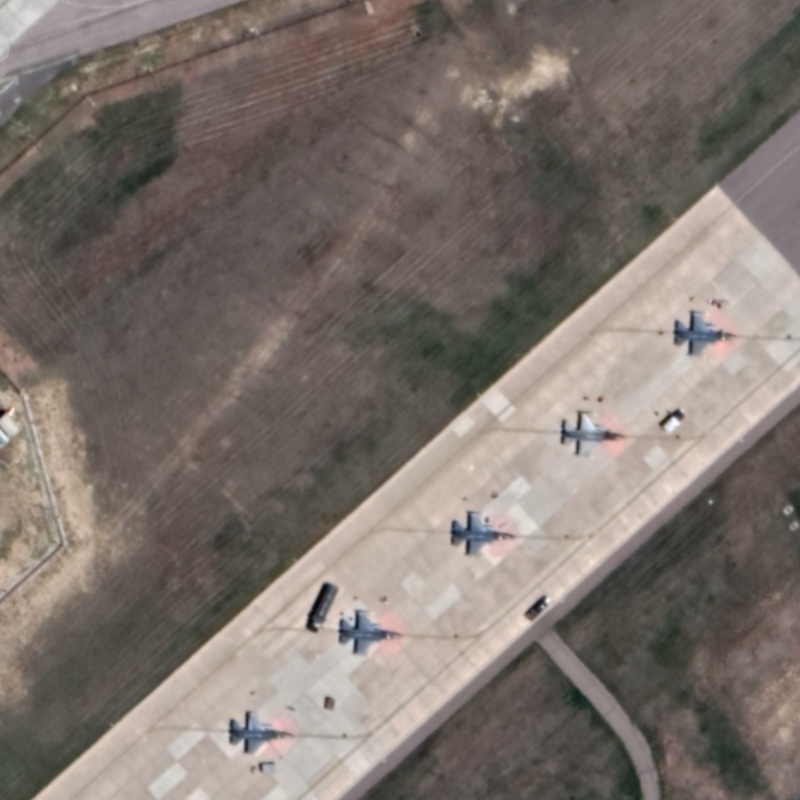A5: (556, 404, 626, 464), (446, 505, 517, 561), (336, 605, 407, 659), (670, 303, 738, 359), (229, 707, 295, 757)
